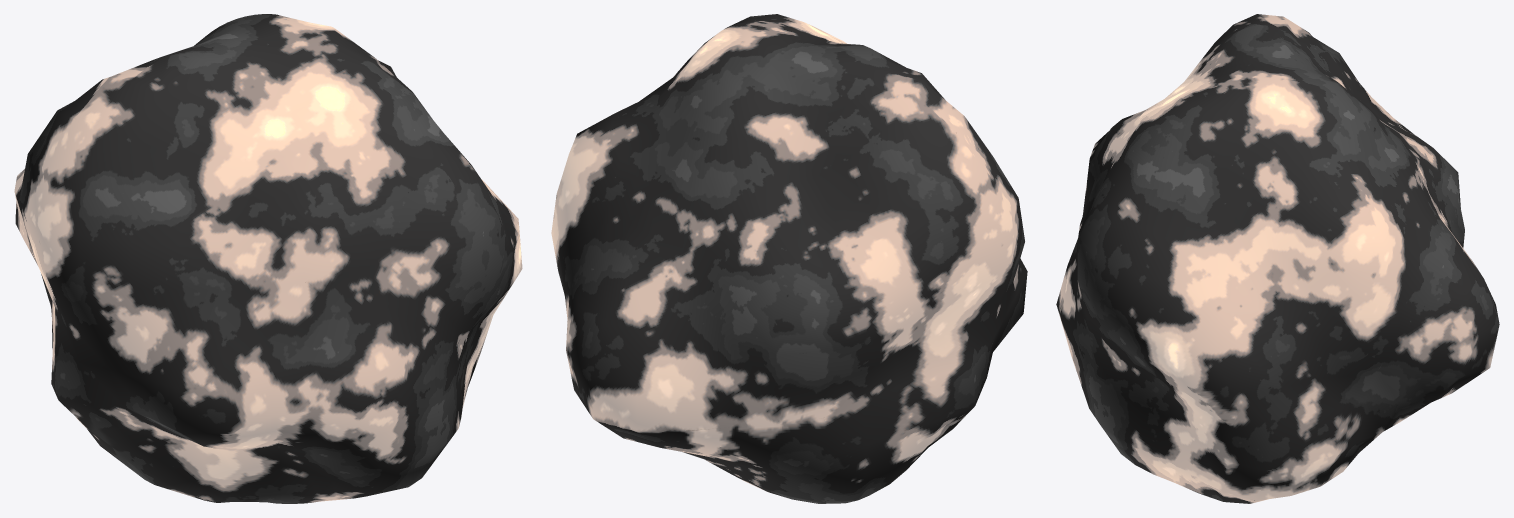
The model's file is core.fbx.
3 views of the same model, side by side, from view 1: azimuth 30°, elevation 25°; view 2: azimuth 150°, elevation 25°; view 3: azimuth 270°, elevation 25° (orthographic). The views are drawn at different scales.
Visible parts, largest first — view 1: Sphere; view 2: Sphere; view 3: Sphere.
Part boxes in pixels (x1=…): Sphere: x1=14, y1=14, x2=522, y2=503; Sphere: x1=551, y1=14, x2=1027, y2=503; Sphere: x1=1056, y1=14, x2=1499, y2=503.
Size of the model in its own units: 924 by 883 by 889.
Materials: 1 (1 with a texture image).
